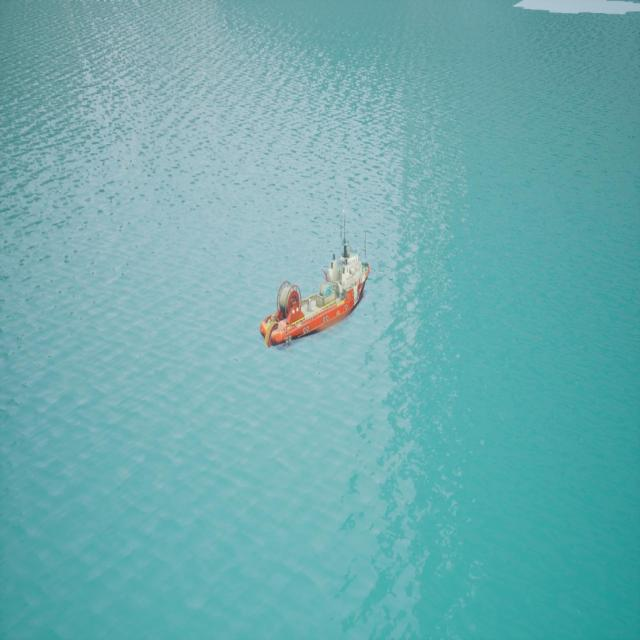tug boat: (262, 254, 370, 350)
